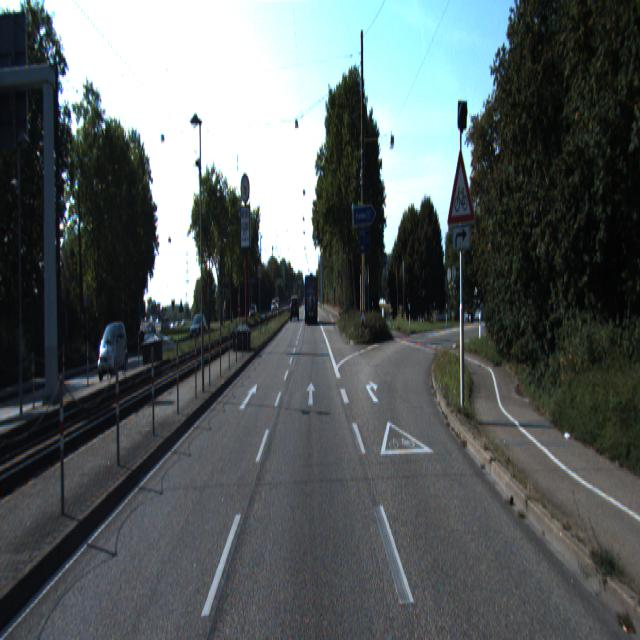Car: (96, 324, 130, 382), (304, 273, 318, 324)
